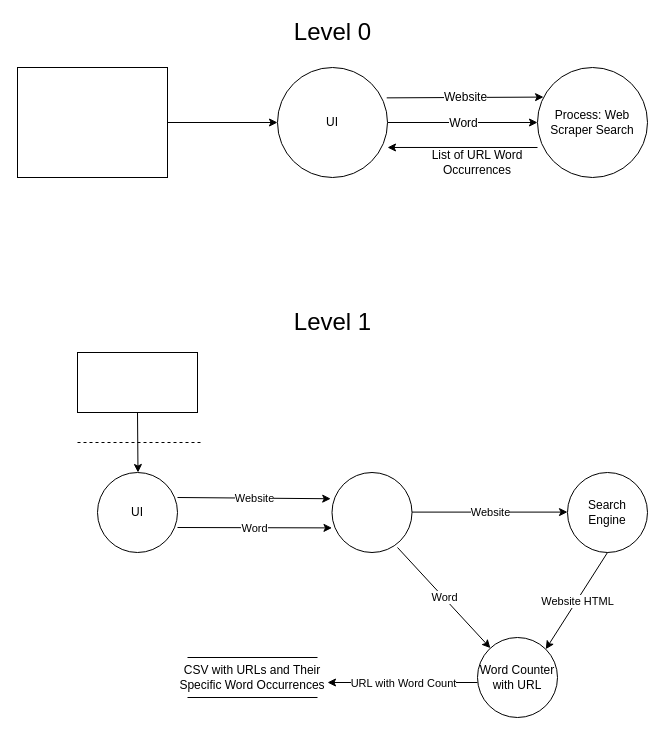
Image size: 665x735. Some labels were removed from this diagram. The centre of each missing label's shape, as x and y in pixels:
"Advanced Ctrl+F" belongs at (x=371, y=512).
"Entity: User" belongs at (x=92, y=122).
"User" belongs at (x=137, y=382).
